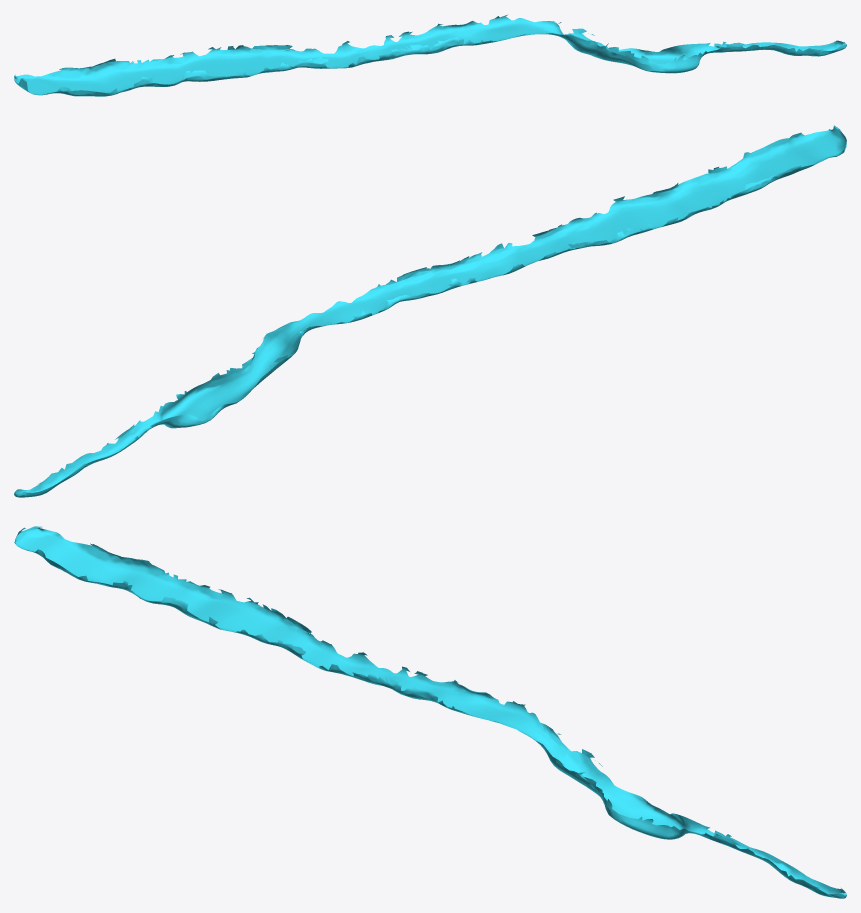
File: Peritoneum2.obj
The picture shows the model from 3 angles, top to bottom: view 1: azimuth 30°, elevation 25°; view 2: azimuth 210°, elevation 25°; view 3: azimuth 330°, elevation 25°; orthographic projection.
Visible parts, largest first — view 1: Peritoneum2; view 2: Peritoneum2; view 3: Peritoneum2.
Boxes of the visible parts, x1,y1,x2,y2 form: Peritoneum2: (14,14,846,96); Peritoneum2: (14,125,846,497); Peritoneum2: (14,526,846,898).
Size of the model in its own units: 7.37 by 1.46 by 0.6275.
